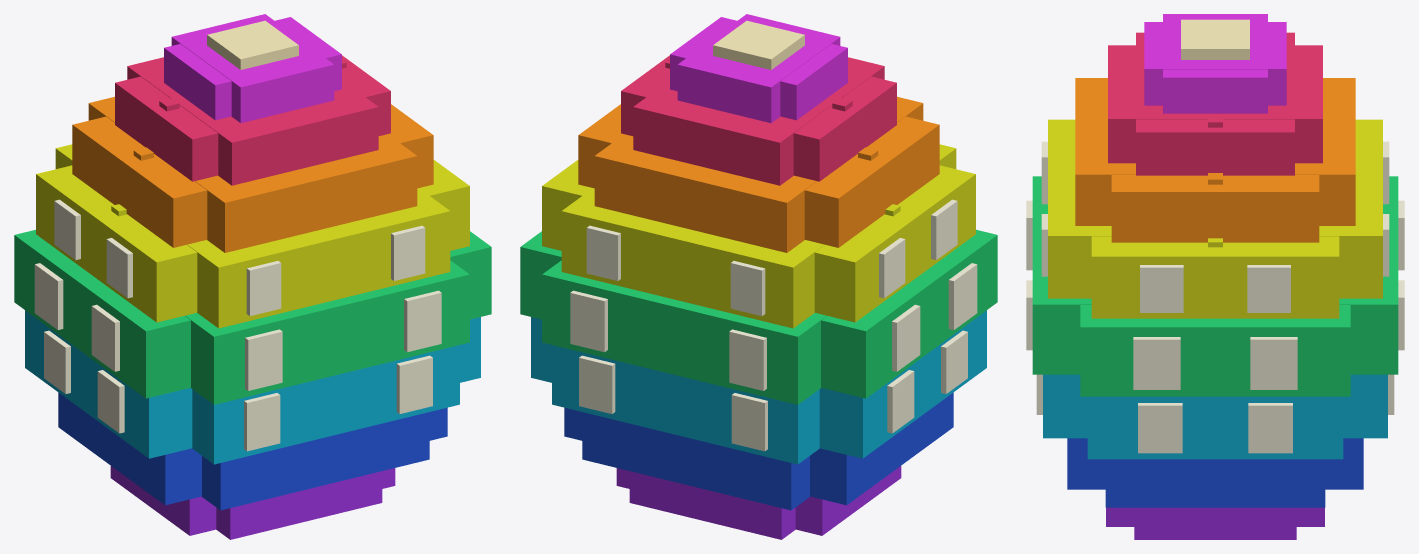
File: TrexEgg.fbx
3 views of the same model, side by side, from view 1: azimuth 30°, elevation 25°; view 2: azimuth 150°, elevation 25°; view 3: azimuth 270°, elevation 25° (orthographic). The views are drawn at different scales.
Parts seen in each view (by area): view 1: Shell3, Shell4, Shell5, ShellWide3, ShellWide4, Shell2, ShellWide5, Shell6, Shell1, ShellWide2, ShellWide6, Shell7 (+17 smaller); view 2: Shell3, Shell4, Shell5, ShellWide3, ShellWide4, Shell2, ShellWide5, Shell6, Shell1, ShellWide2, ShellWide6, Shell7 (+17 smaller); view 3: ShellWide3, ShellWide4, ShellWide5, Shell4, ShellWide2, Shell5, ShellWide1, Shell3, Shell6, ShellWide6, Shell7, Shell2 (+15 smaller).
Part boxes in pixels (left/top/right/bottom): Shell3: left=185, top=260, right=469, bottom=404; Shell4: left=55, top=144, right=450, bottom=328; Shell5: left=88, top=96, right=417, bottom=252; ShellWide3: left=14, top=229, right=491, bottom=398; ShellWide4: left=36, top=160, right=469, bottom=322; Shell2: left=192, top=345, right=459, bottom=464; ShellWide5: left=72, top=104, right=433, bottom=247; Shell6: left=127, top=57, right=378, bottom=185; Shell1: left=202, top=412, right=429, bottom=510; ShellWide2: left=25, top=310, right=480, bottom=458; ShellWide6: left=115, top=55, right=390, bottom=181; Shell7: left=171, top=14, right=334, bottom=122; Shell3: left=542, top=260, right=826, bottom=404; Shell4: left=561, top=144, right=956, bottom=328; Shell5: left=594, top=96, right=923, bottom=252; ShellWide3: left=520, top=229, right=997, bottom=398; ShellWide4: left=542, top=160, right=975, bottom=322; Shell2: left=552, top=345, right=819, bottom=464; ShellWide5: left=578, top=104, right=939, bottom=247; Shell6: left=633, top=57, right=884, bottom=185; Shell1: left=582, top=412, right=809, bottom=510; ShellWide2: left=531, top=310, right=986, bottom=458; ShellWide6: left=621, top=55, right=896, bottom=181; Shell7: left=677, top=14, right=840, bottom=122; ShellWide3: left=1080, top=305, right=1350, bottom=396; ShellWide4: left=1091, top=236, right=1339, bottom=318; ShellWide5: left=1111, top=175, right=1319, bottom=242; Shell4: left=1048, top=119, right=1382, bottom=298; ShellWide2: left=1087, top=396, right=1343, bottom=459; Shell5: left=1075, top=78, right=1355, bottom=225; ShellWide1: left=1105, top=459, right=1325, bottom=507; Shell3: left=1032, top=176, right=1398, bottom=374; Shell6: left=1108, top=45, right=1322, bottom=163; ShellWide6: left=1136, top=32, right=1294, bottom=175; Shell7: left=1144, top=22, right=1286, bottom=105; Shell2: left=1043, top=374, right=1387, bottom=438.
Bounding box in the file's own units: 208 × 247 × 186.
